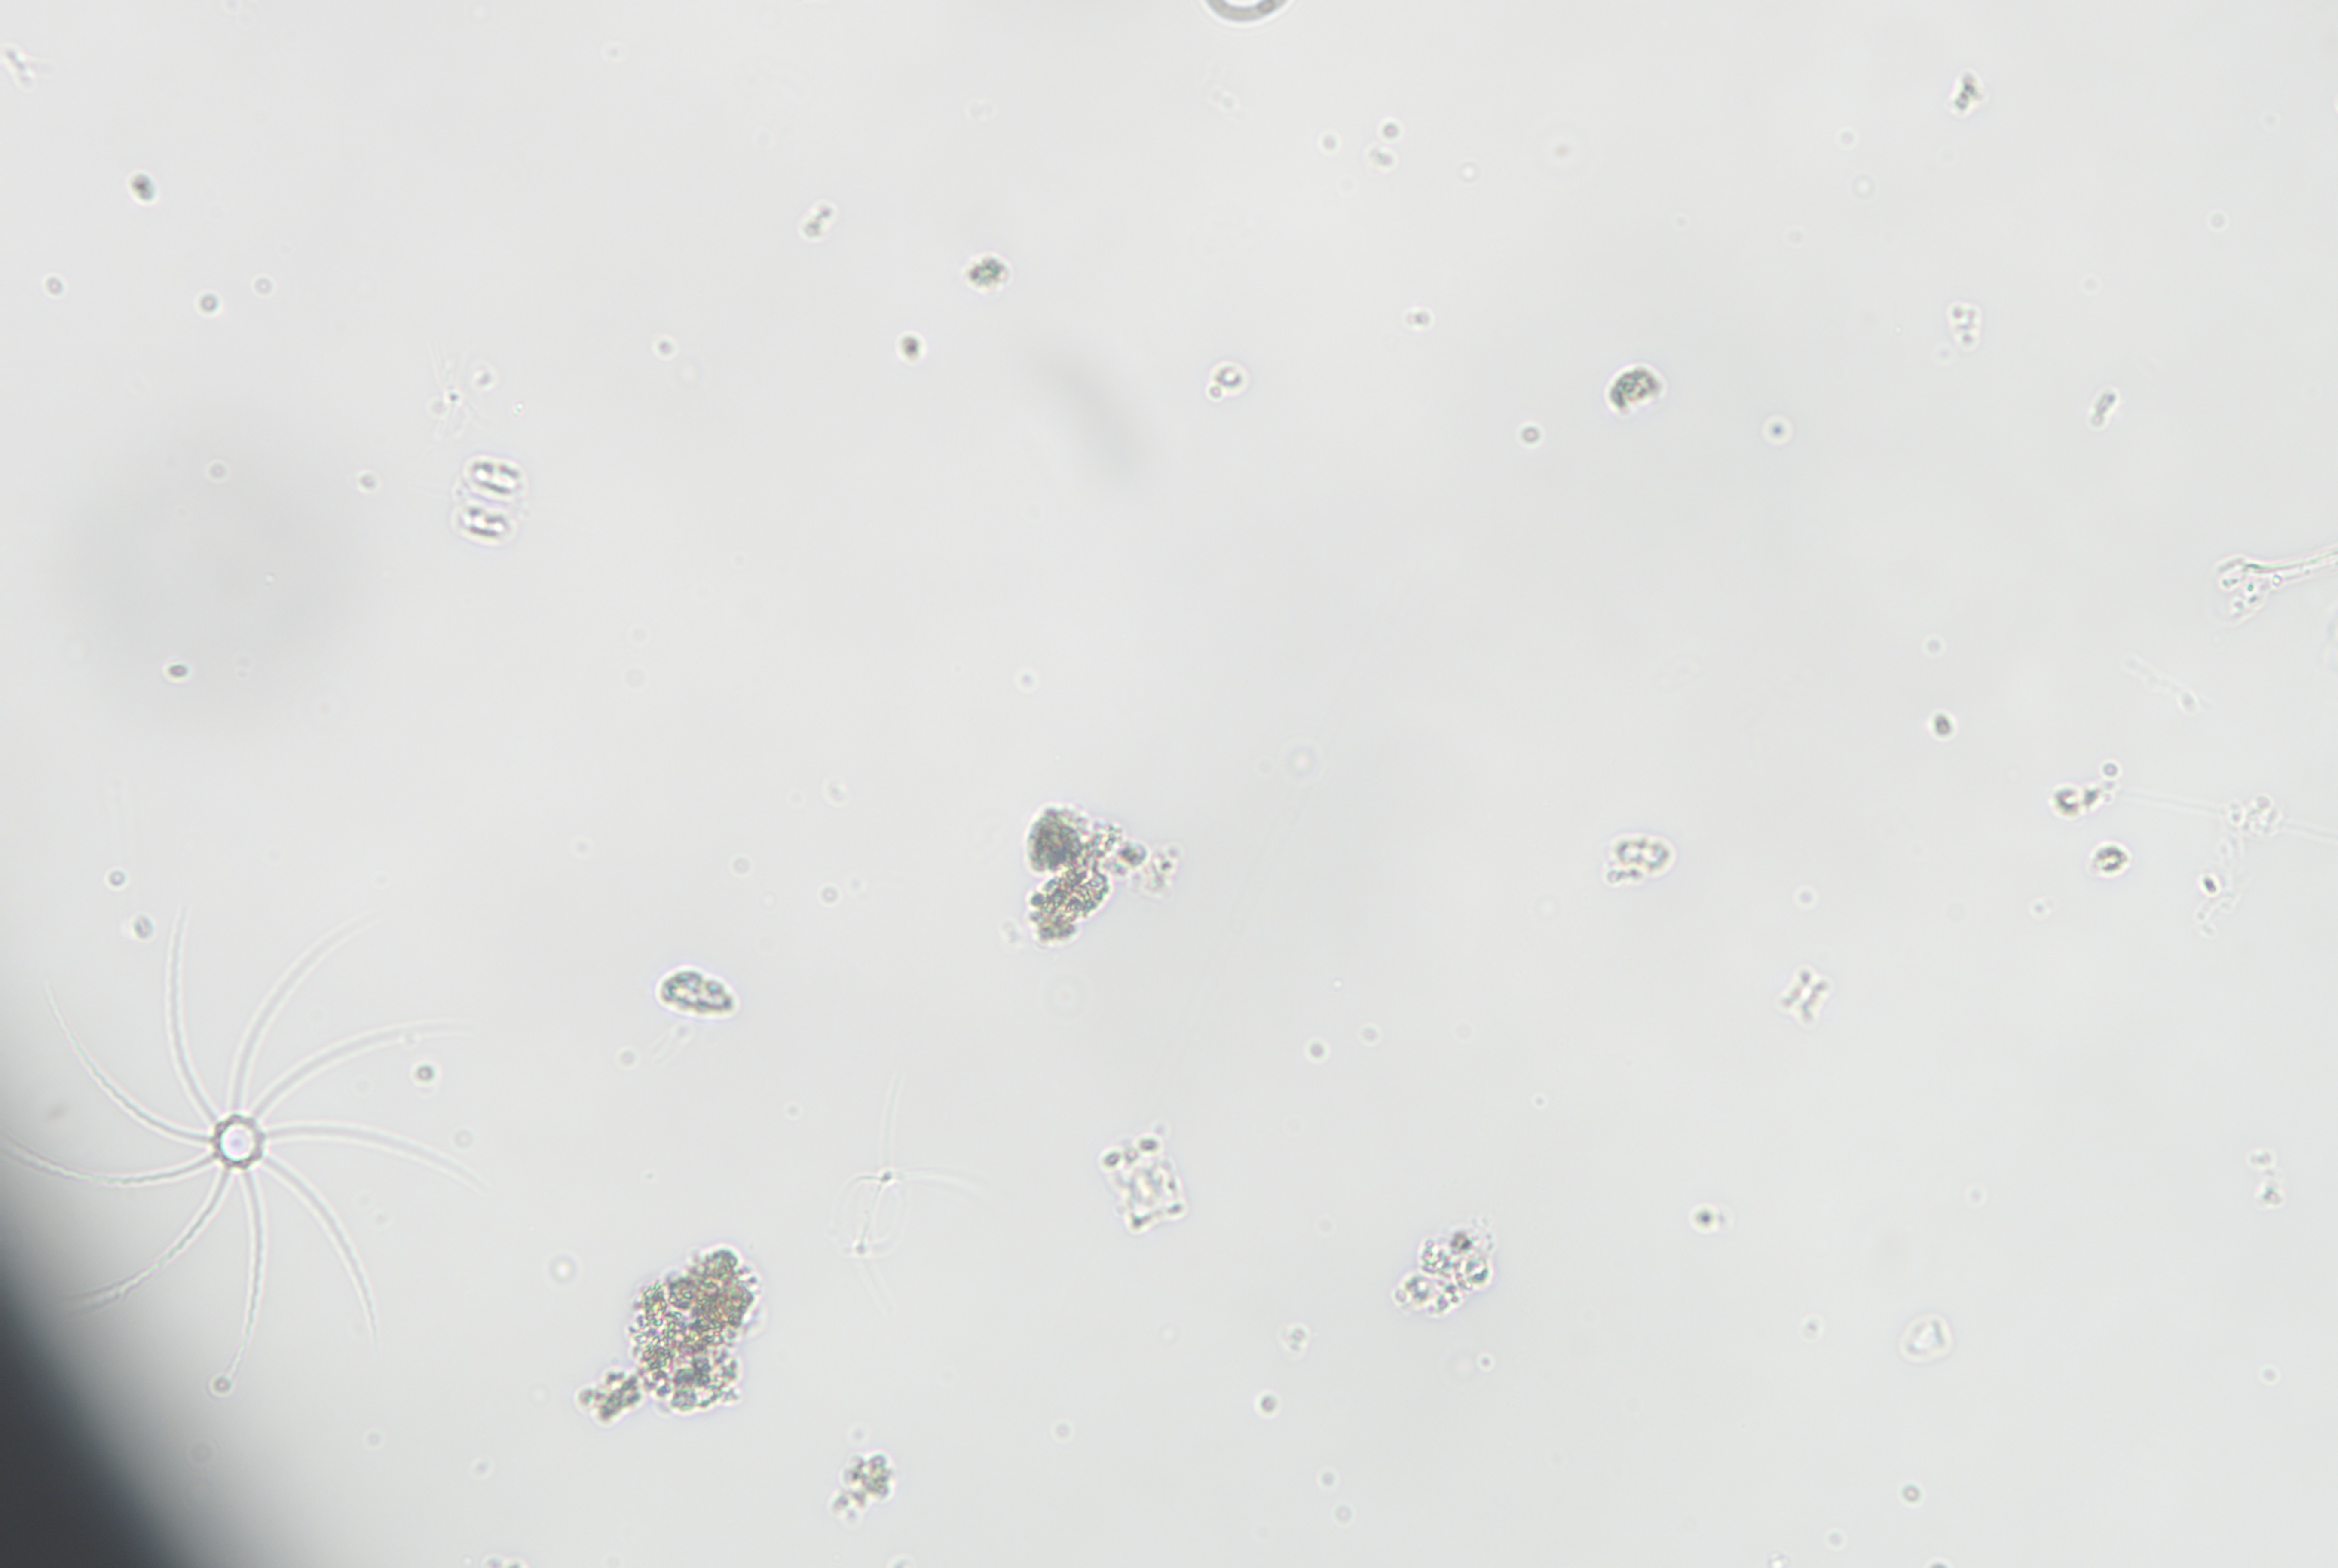bacteriastrum: (5, 917, 467, 1347)
